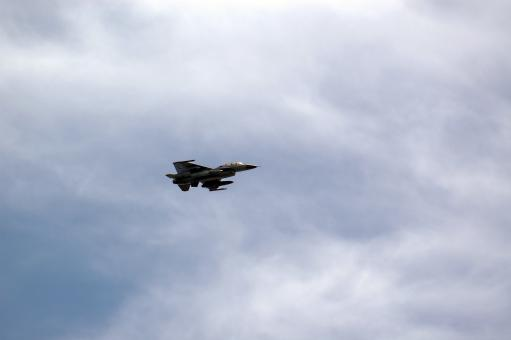plane: (163, 158, 260, 191)
